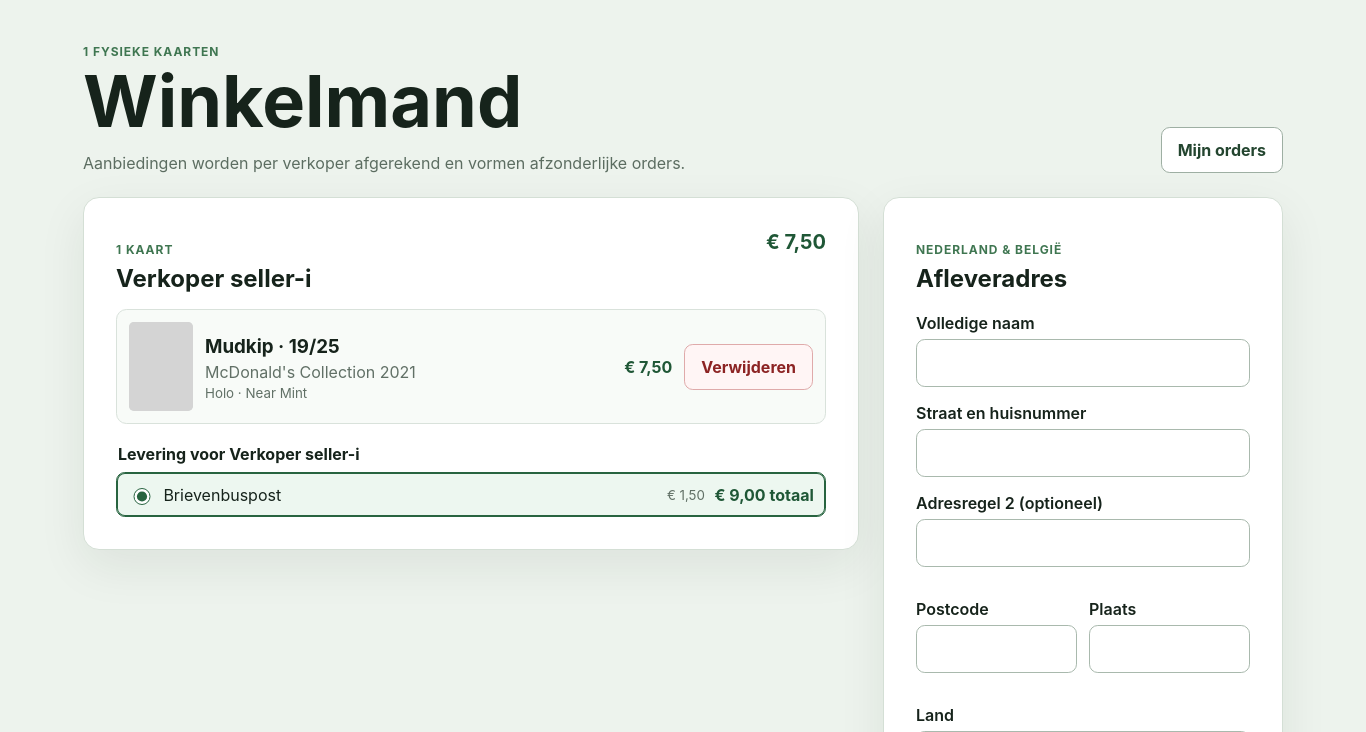
Test case: CartPage › groups cart entries by seller and removes an item
Click the button "Verwijderen": (749, 367) [684,344,813,390]
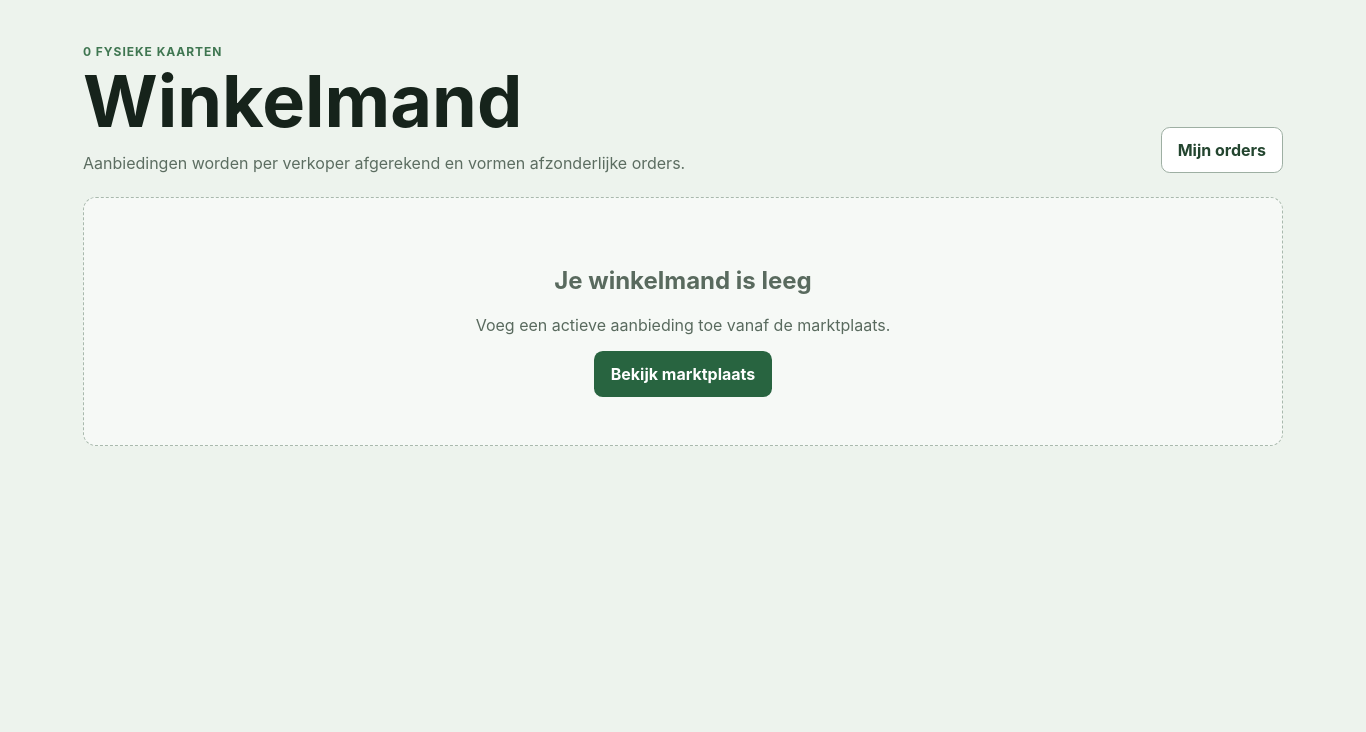
expect the text "Je winkelmand is leeg" is shown: met, box [554,266,812,295]
